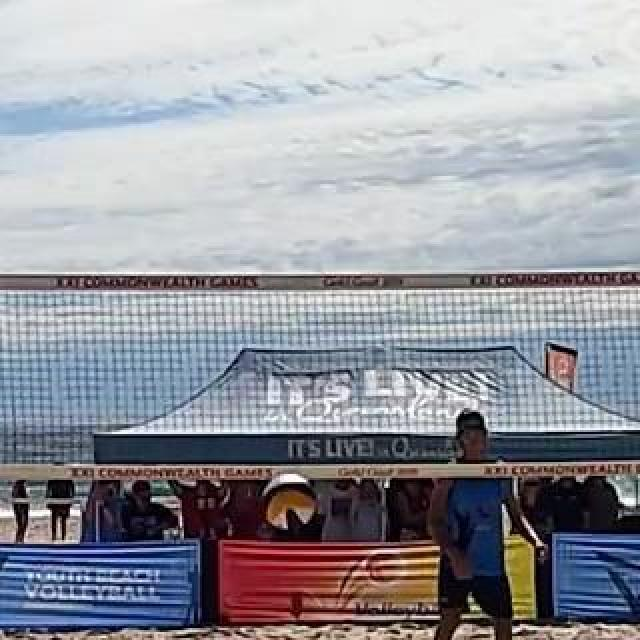volleyball: (263, 475, 317, 531)
